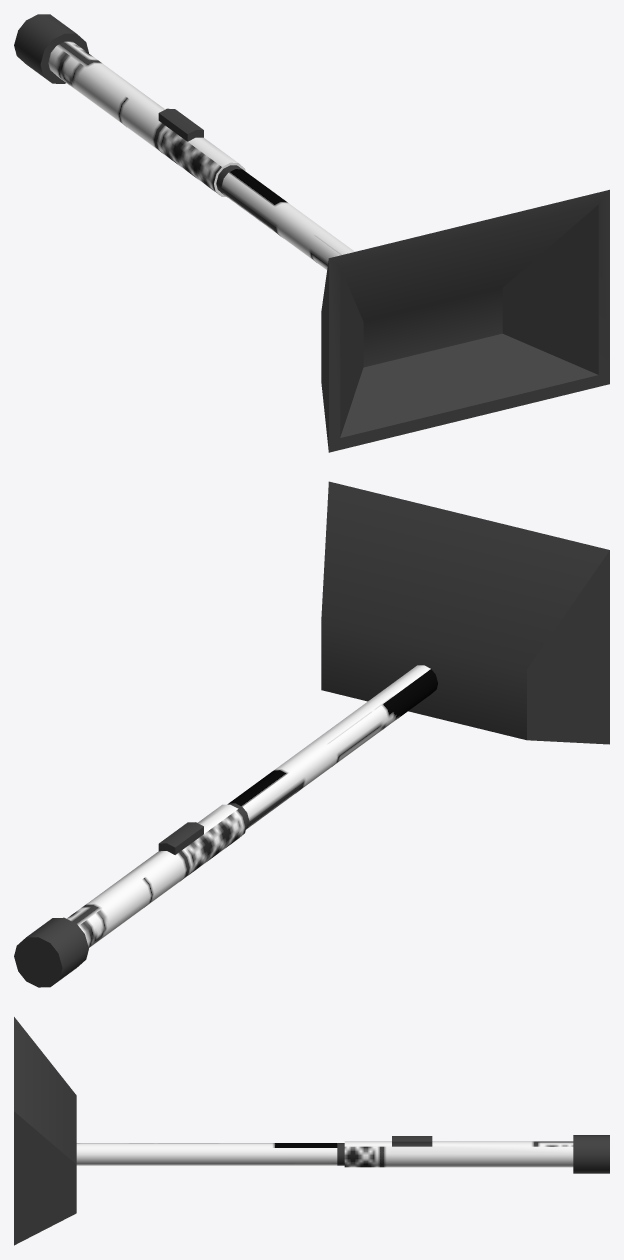
File: VacuumCleanerOtherPart001.FBX
The picture shows the model from 3 angles, top to bottom: view 1: azimuth 30°, elevation 25°; view 2: azimuth 150°, elevation 25°; view 3: azimuth 270°, elevation 25°; orthographic projection. The views are drawn at different scales.
Visible parts, largest first — view 1: VacuumCleaner002; view 2: VacuumCleaner002; view 3: VacuumCleaner002.
Boxes of the visible parts, x1=… form: VacuumCleaner002: x1=14, y1=14, x2=609, y2=452; VacuumCleaner002: x1=14, y1=481, x2=609, y2=987; VacuumCleaner002: x1=14, y1=1017, x2=609, y2=1245.
Size of the model in its own units: 6.29 by 4.16 by 16.72.
